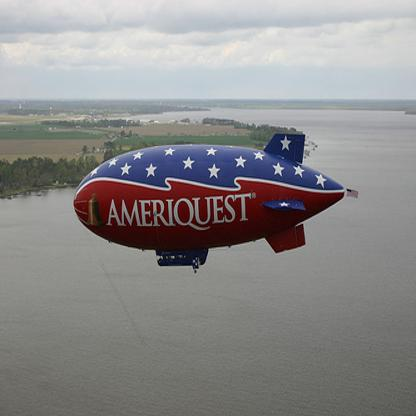Airship: (70, 132, 357, 269)
